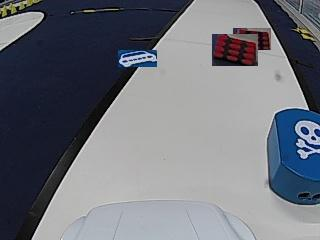danger: (294, 118, 319, 160)
